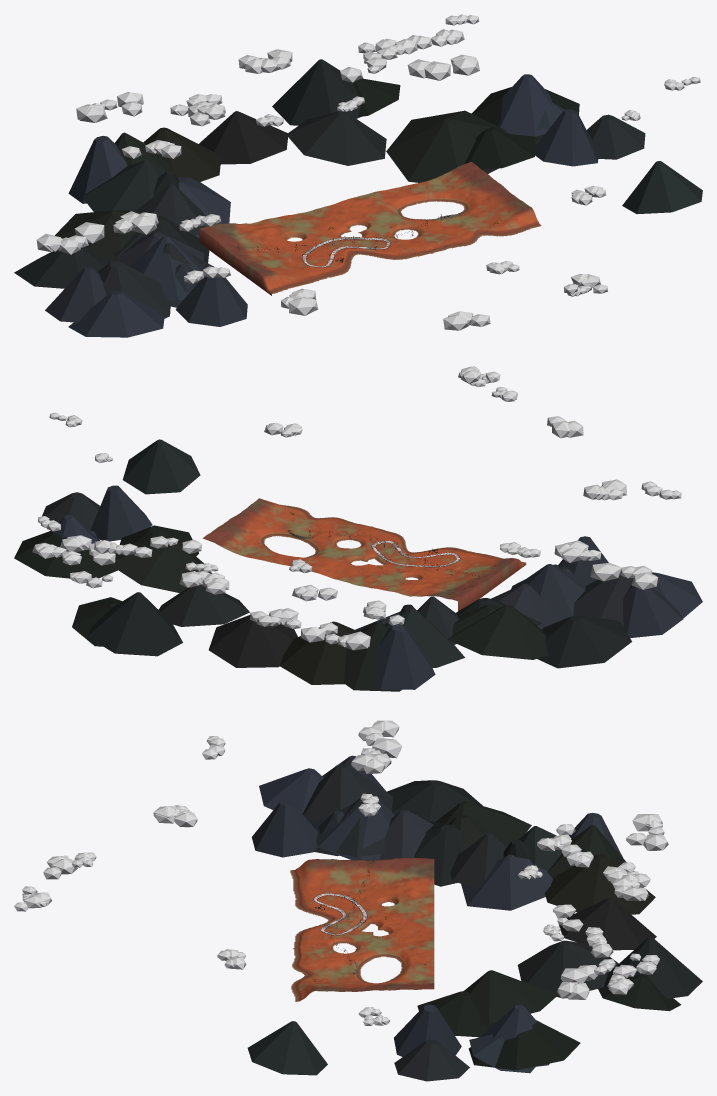
The model's file is level.glb.
The picture shows the model from 3 angles, top to bottom: view 1: azimuth 30°, elevation 25°; view 2: azimuth 150°, elevation 25°; view 3: azimuth 270°, elevation 25°; orthographic projection. The views are drawn at different scales.
Visible parts, largest first — view 1: backdrop, clouds, terrain_0_3, terrain_3_3, terrain_0_2, terrain_1_3, terrain_3_2, terrain_2_3, terrain_1_2, terrain_2_2, terrain_0_1, terrain_3_1 (+3 smaller); view 2: backdrop, clouds, terrain_3_2, terrain_0_2, terrain_0_3, terrain_3_3, terrain_1_3, terrain_2_2, terrain_1_2, terrain_2_3, terrain_2_1, terrain_0_1; view 3: backdrop, clouds, terrain_0_3, terrain_0_2, terrain_1_3, terrain_2_3, terrain_2_2, terrain_1_2, terrain_3_2, terrain_3_3, terrain_0_1, terrain_2_1 (+1 smaller).
Part boxes in pixels (<box>): backdrop: <box>14,59,702,337</box>; clouds: <box>36,14,700,330</box>; terrain_0_3: <box>199,219,295,263</box>; terrain_3_3: <box>404,162,499,204</box>; terrain_0_2: <box>228,242,324,284</box>; terrain_1_3: <box>268,203,358,241</box>; terrain_3_2: <box>443,184,528,230</box>; terrain_2_3: <box>336,186,419,227</box>; terrain_1_2: <box>296,229,392,264</box>; terrain_2_2: <box>366,217,460,247</box>; terrain_0_1: <box>257,264,337,295</box>; terrain_3_1: <box>462,206,541,242</box>; backdrop: <box>14,439,702,691</box>; clouds: <box>32,366,681,650</box>; terrain_3_2: <box>229,500,320,539</box>; terrain_0_2: <box>422,555,512,594</box>; terrain_0_3: <box>394,574,485,611</box>; terrain_3_3: <box>202,519,277,560</box>; terrain_1_3: <box>330,563,420,591</box>; terrain_2_2: <box>301,524,384,561</box>; terrain_1_2: <box>359,539,447,573</box>; terrain_2_3: <box>266,550,354,577</box>; terrain_2_1: <box>321,517,395,538</box>; terrain_0_1: <box>449,549,526,574</box>; backdrop: <box>247,755,702,1081</box>; clouds: <box>14,720,668,1025</box>; terrain_0_3: <box>377,858,434,903</box>; terrain_0_2: <box>319,859,376,900</box>; terrain_1_3: <box>377,897,434,934</box>; terrain_2_3: <box>377,932,434,968</box>; terrain_2_2: <box>319,933,376,968</box>; terrain_1_2: <box>319,900,376,934</box>; terrain_3_2: <box>319,966,376,991</box>; terrain_3_3: <box>377,964,434,990</box>; terrain_0_1: <box>290,859,319,903</box>; terrain_2_1: <box>292,933,319,968</box>.
Size of the model in its own units: 3088 by 414 by 2834.
